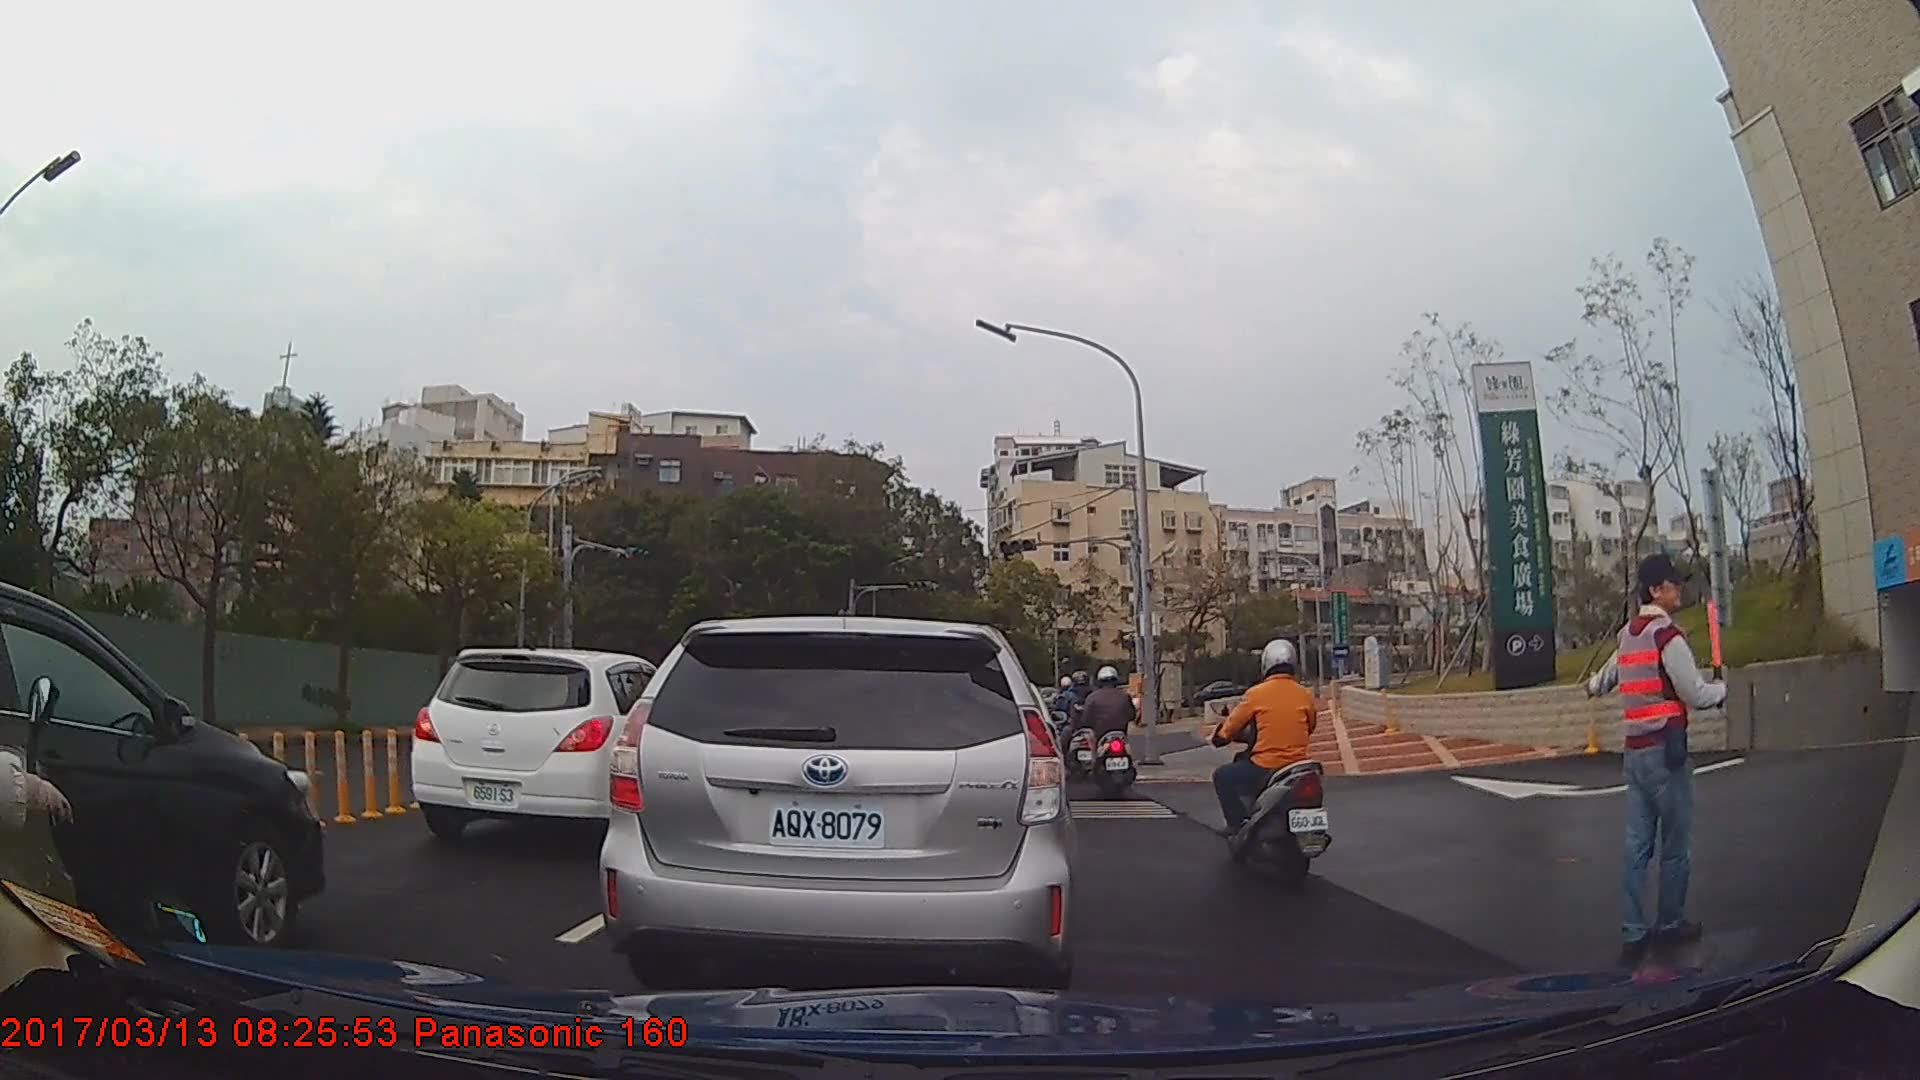pedestrian: (1587, 553, 1737, 959)
rider: (1211, 633, 1338, 882), (1079, 660, 1138, 807), (1063, 670, 1101, 779)
vehicle: (597, 617, 1073, 984), (0, 578, 325, 954), (411, 647, 719, 845), (1182, 677, 1250, 710)
